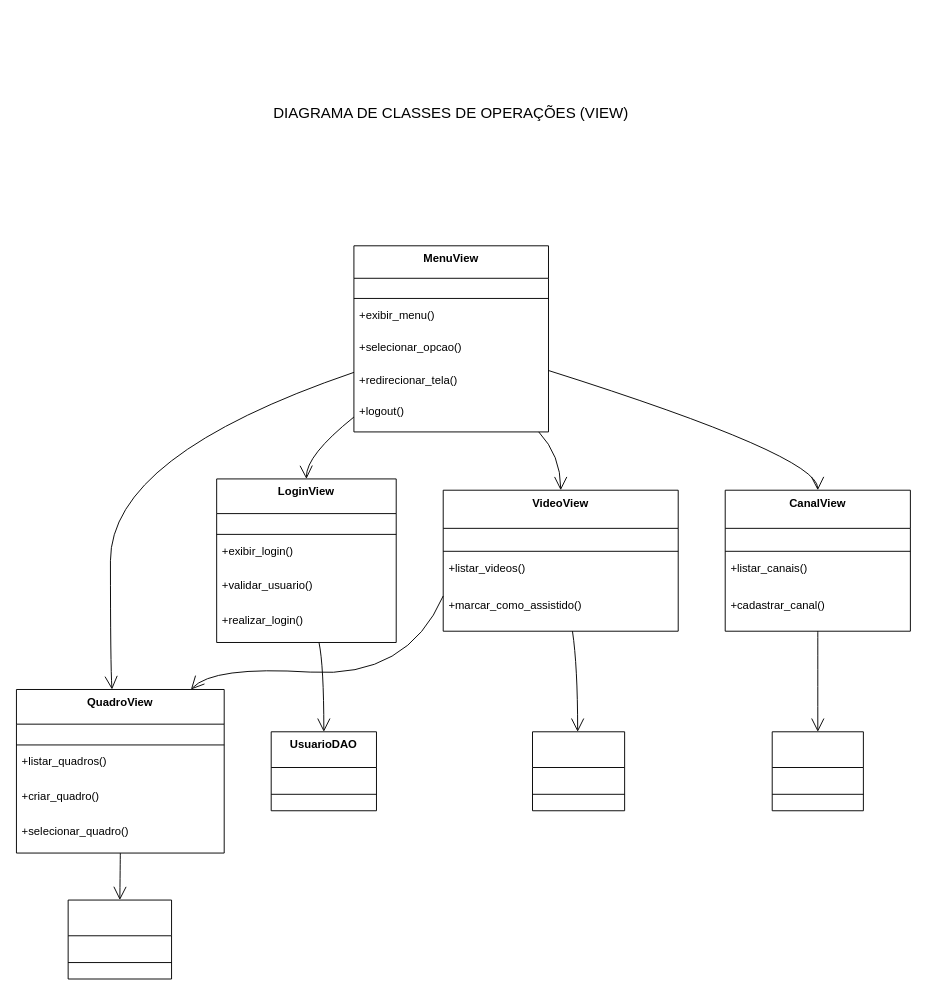
Some shapes in this 927 by 995 pixel diagram are drawn without their labels. The shapes that lost their labels are listed below. From the top down, each one's centre as x and y in pixels, then its label:
At [578,771]: "VideoDAO".
At [817,771]: "CanalDAO".
At [119,939]: "QuadroDAO".
